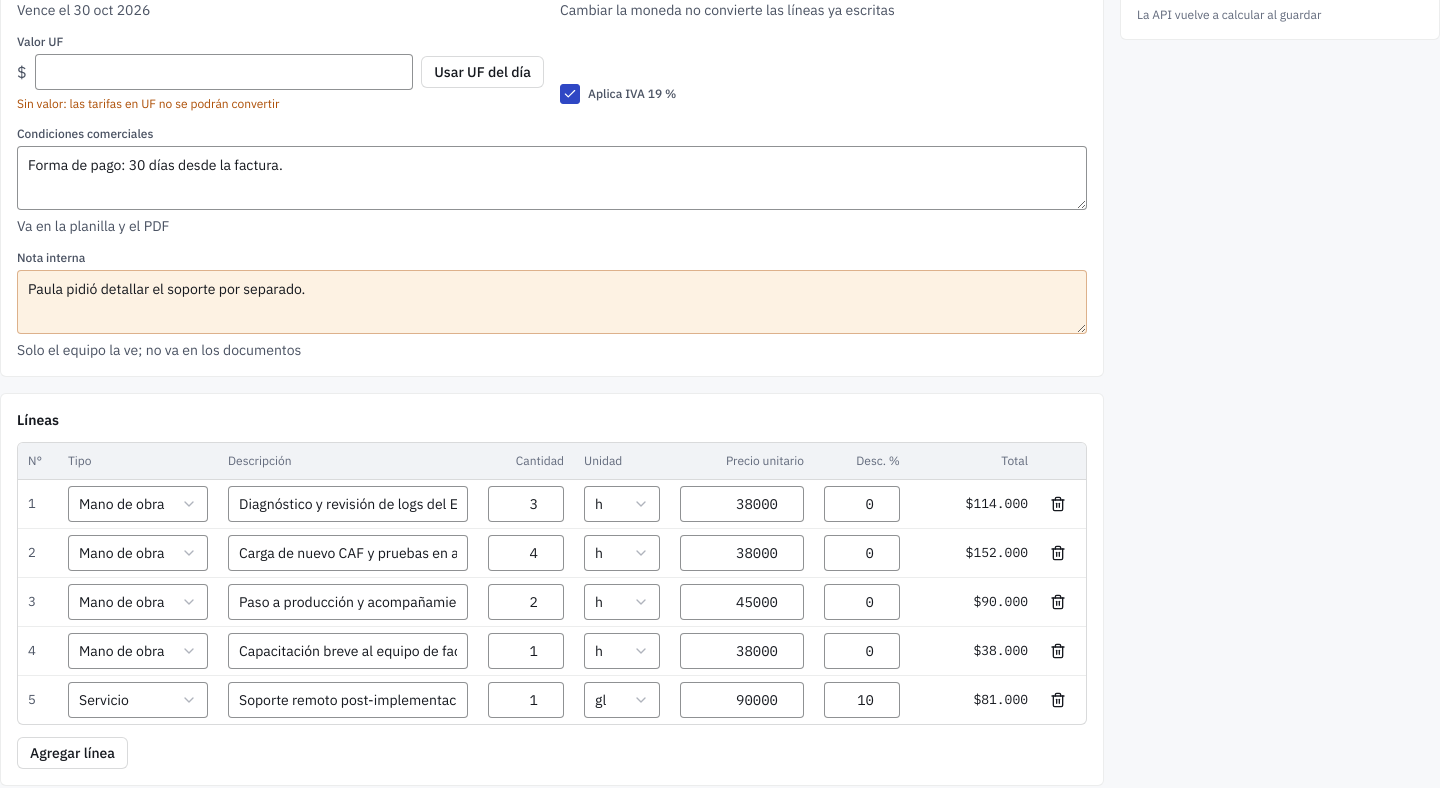
cambiar una cantidad recalcula los totales y la línea en vivo
(page scrolled)
Replace the text in the number field named "Cantidad de la línea 1" with "4" at [526, 504], box [488, 486, 564, 522]
(page scrolled)
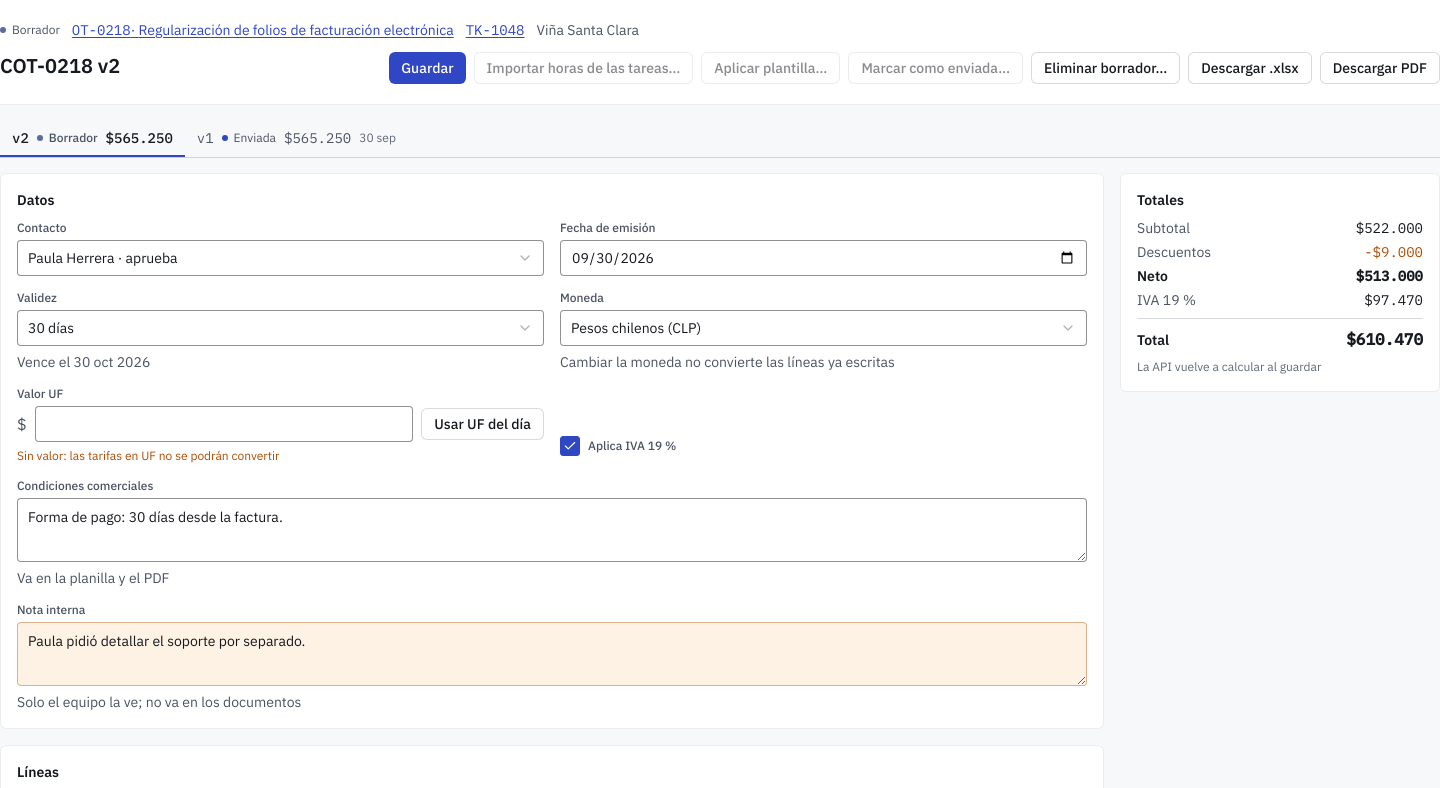
Expected: the text "$513.000" is shown, [1356, 267, 1423, 285]
Expected: the button "Guardar" is enabled, [389, 52, 466, 84]
